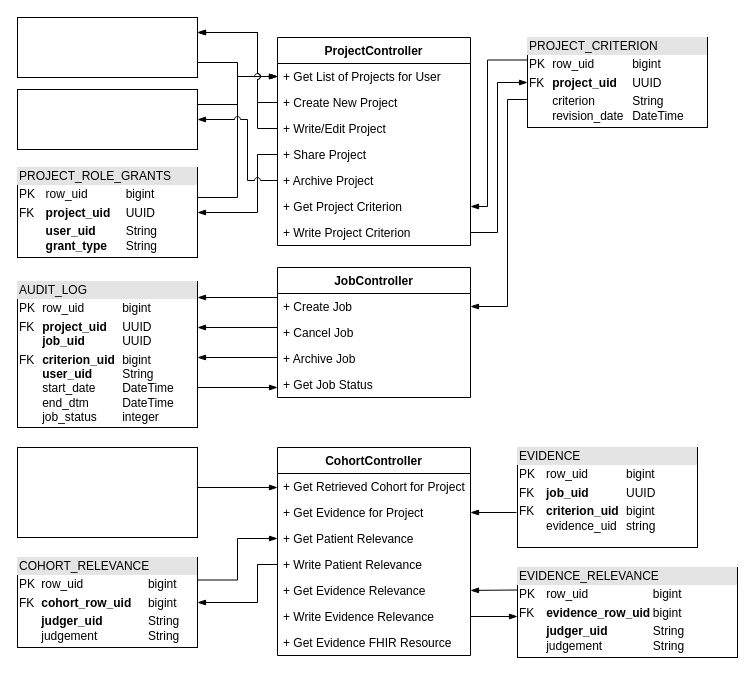
The diagram is 755 pixels wide and 676 high, and some of its shapes have lost their labels. Each missing label, with the centre of its shape:
"COHORT PK row_uid bigint FK job_uid UUID patient_uid String score double" goes at [107,492].
"PROJECT_ARCHIVE PK row_uid bigint FK project_uid UUID" goes at [107,119].
"PROJECTS PK project_uid UUID project_name String" goes at [107,47].
